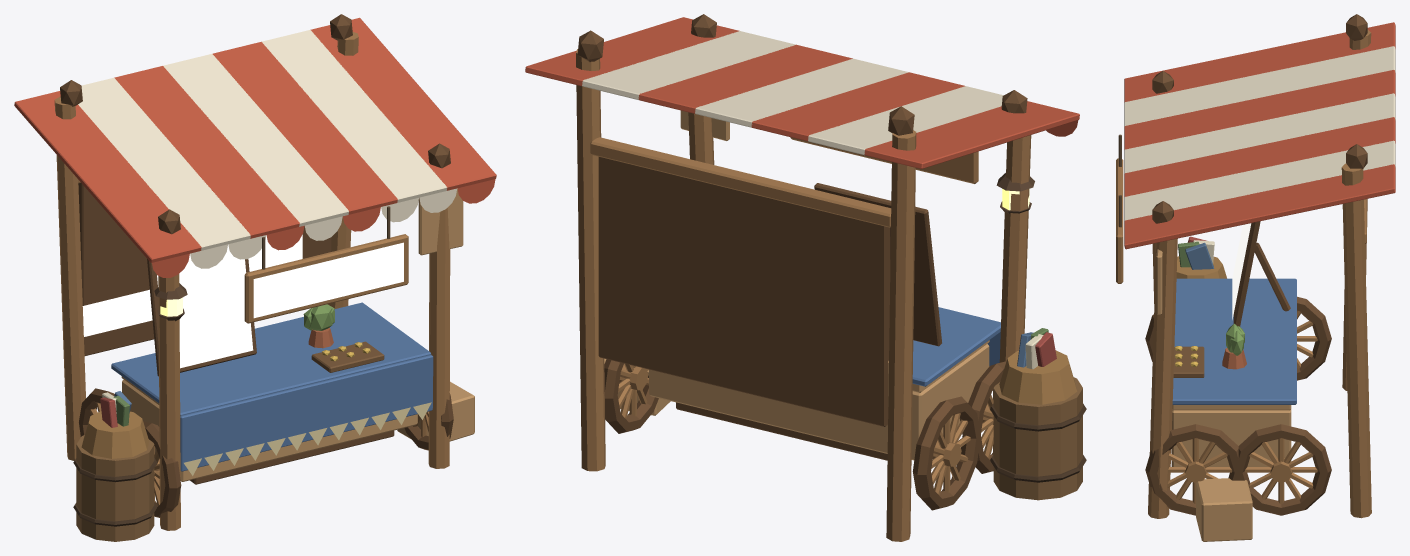
File: echo_world_market_stall_20260804.glb
The picture shows the model from 3 angles, left to right: view 1: azimuth 30°, elevation 25°; view 2: azimuth 150°, elevation 25°; view 3: azimuth 270°, elevation 25°; orthographic projection. The views are drawn at different scales.
Visible parts, largest first — view 1: CART_ClothDrape, CART_ClothTop, AWNING_Stripe_04, AWNING_Stripe_06, AWNING_Stripe_01, AWNING_Stripe_03, AWNING_Stripe_05, AWNING_Stripe_02, AWNING_Stripe_07, MESH_BackWall, MESH_Portrait, STALL_Post_Back_L (+26 smaller); view 2: MESH_BackWall, STALL_Post_Back_L, CART_Body, STALL_Post_Back_R, PROP_Barrel, STALL_BackWallCap, AWNING_Stripe_01, AWNING_Stripe_06, AWNING_Stripe_05, AWNING_Stripe_03, AWNING_Stripe_04, STALL_Post_Front_L (+14 smaller); view 3: CART_ClothTop, AWNING_Stripe_07, STALL_Post_Back_R, AWNING_Stripe_02, AWNING_Stripe_04, AWNING_Stripe_03, AWNING_Stripe_05, AWNING_Stripe_06, AWNING_Stripe_01, STALL_Post_Front_R, CART_Body, PROP_Crate (+20 smaller).
Part boxes in pixels (x1=…): CART_ClothDrape: x1=180, y1=355, x2=433, y2=471; CART_ClothTop: x1=111, y1=302, x2=431, y2=415; AWNING_Stripe_04: x1=163, y1=53, x2=348, y2=226; AWNING_Stripe_06: x1=262, y1=30, x2=447, y2=202; AWNING_Stripe_01: x1=14, y1=91, x2=201, y2=262; AWNING_Stripe_03: x1=114, y1=66, x2=299, y2=238; AWNING_Stripe_05: x1=212, y1=41, x2=397, y2=214; AWNING_Stripe_02: x1=78, y1=77, x2=250, y2=250; AWNING_Stripe_07: x1=310, y1=17, x2=496, y2=190; MESH_BackWall: x1=78, y1=183, x2=331, y2=355; MESH_Portrait: x1=157, y1=244, x2=253, y2=368; STALL_Post_Back_L: x1=54, y1=96, x2=85, y2=460; MESH_BackWall: x1=598, y1=157, x2=890, y2=426; STALL_Post_Back_L: x1=886, y1=130, x2=916, y2=541; CART_Body: x1=649, y1=344, x2=989, y2=460; STALL_Post_Back_R: x1=576, y1=49, x2=605, y2=471; PROP_Barrel: x1=993, y1=377, x2=1082, y2=500; STALL_BackWallCap: x1=590, y1=137, x2=891, y2=227; AWNING_Stripe_01: x1=864, y1=101, x2=1079, y2=169; AWNING_Stripe_06: x1=582, y1=31, x2=795, y2=99; AWNING_Stripe_05: x1=638, y1=44, x2=852, y2=113; AWNING_Stripe_03: x1=751, y1=72, x2=964, y2=141; AWNING_Stripe_04: x1=695, y1=58, x2=908, y2=127; STALL_Post_Front_L: x1=999, y1=135, x2=1031, y2=362; CART_ClothTop: x1=1172, y1=278, x2=1296, y2=404; AWNING_Stripe_07: x1=1124, y1=164, x2=1395, y2=249; STALL_Post_Back_R: x1=1341, y1=163, x2=1371, y2=518; AWNING_Stripe_02: x1=1124, y1=46, x2=1395, y2=126; AWNING_Stripe_04: x1=1124, y1=93, x2=1395, y2=173; AWNING_Stripe_03: x1=1124, y1=70, x2=1395, y2=149; AWNING_Stripe_05: x1=1124, y1=117, x2=1395, y2=196; AWNING_Stripe_06: x1=1124, y1=140, x2=1395, y2=220; AWNING_Stripe_01: x1=1124, y1=22, x2=1395, y2=102; STALL_Post_Front_R: x1=1148, y1=238, x2=1177, y2=518; CART_Body: x1=1171, y1=409, x2=1291, y2=466; PROP_Crate: x1=1196, y1=478, x2=1252, y2=541.
Size of the model in its own units: 3.2 by 2.88 by 1.97.
